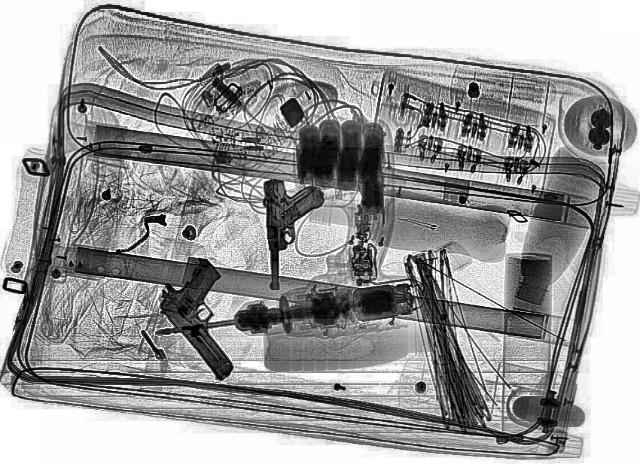Gun: (135, 256, 287, 382), (260, 177, 328, 291)
